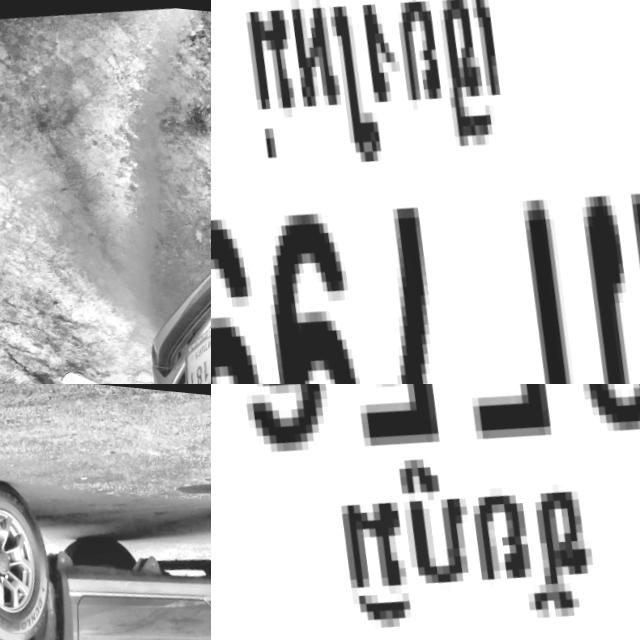license-plate: (211, 0, 640, 384), (211, 384, 640, 640), (168, 280, 211, 384)
